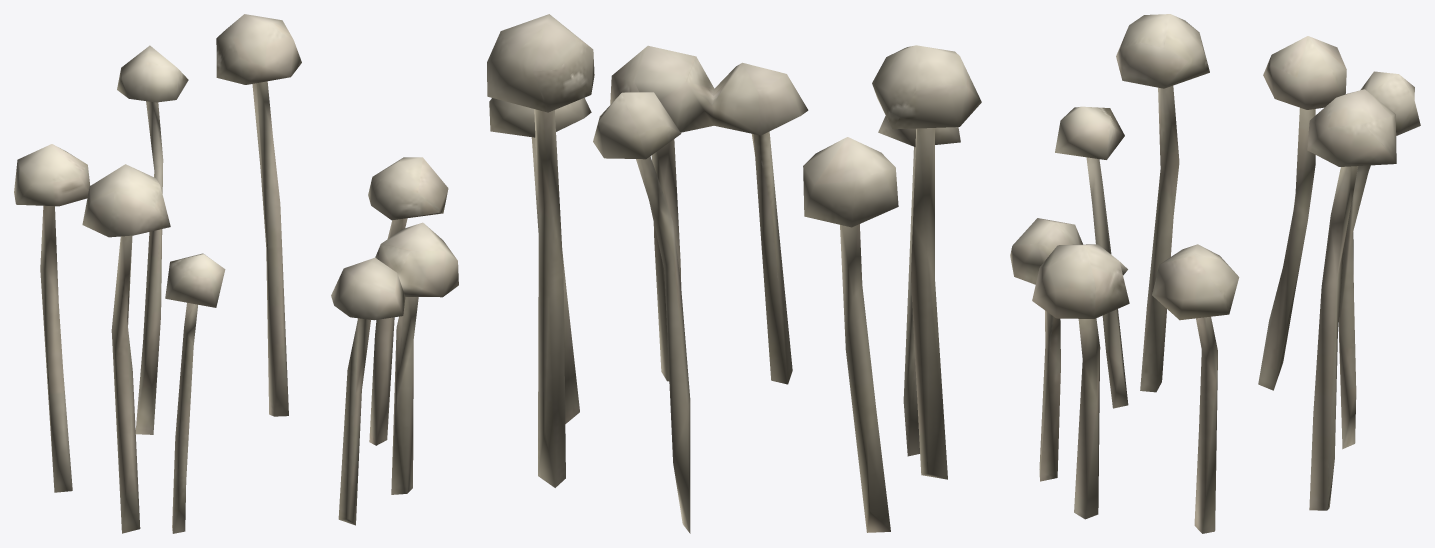
File: mushgrass_d.glb
3 views of the same model, side by side, from view 1: azimuth 30°, elevation 25°; view 2: azimuth 150°, elevation 25°; view 3: azimuth 270°, elevation 25° (orthographic). The views are drawn at different scales.
Parts seen in each view (by area): view 1: mushgrass; view 2: mushgrass; view 3: mushgrass.
Part boxes in pixels (<box>): mushgrass: <box>14,14,458,533</box>; mushgrass: <box>487,14,981,533</box>; mushgrass: <box>1010,14,1420,533</box>.
Size of the model in its own units: 0.1454 by 0.1442 by 0.1293.
1 material, 1 textured.
